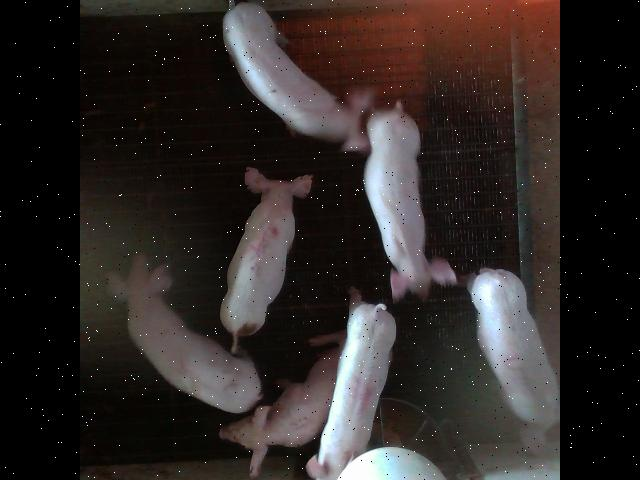pig-4: (306, 287, 396, 480)
pig-5: (220, 166, 312, 351)
